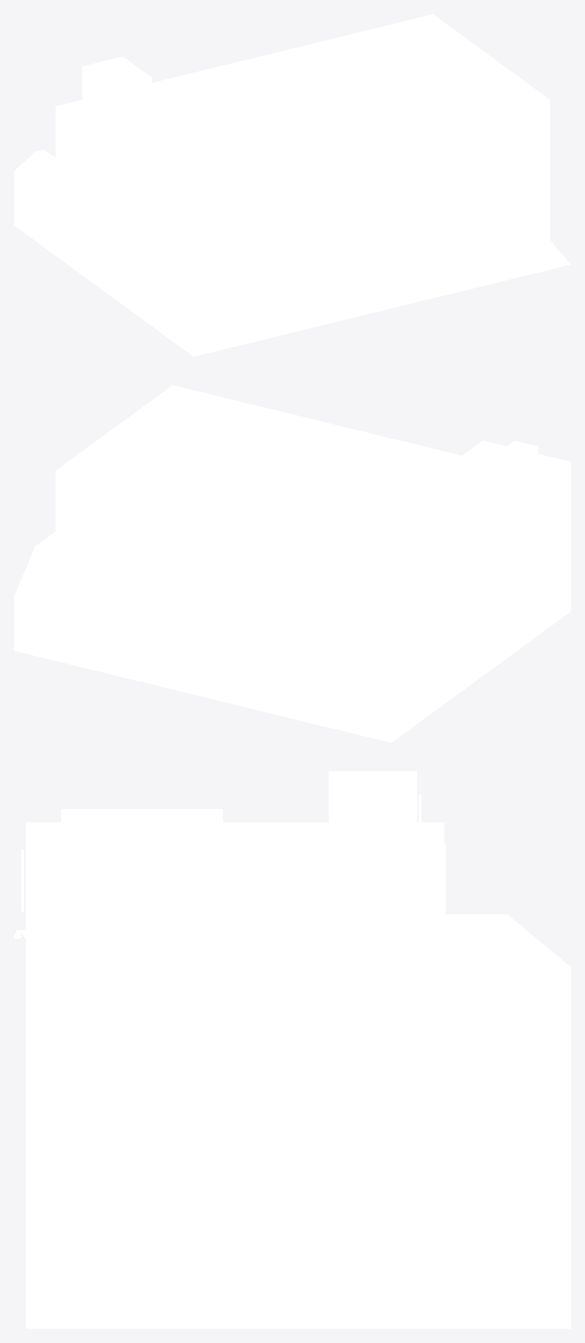
The model's file is landfill-big.glb.
3 views of the same model, one above another, from view 1: azimuth 30°, elevation 25°; view 2: azimuth 150°, elevation 25°; view 3: azimuth 270°, elevation 25° (orthographic). The views are drawn at different scales.
Visible parts, largest first — view 1: landfill-big; view 2: landfill-big; view 3: landfill-big.
Part boxes in pixels (bbox=[...]): landfill-big: bbox=[14, 14, 570, 356]; landfill-big: bbox=[14, 385, 570, 742]; landfill-big: bbox=[14, 771, 570, 1328].
Bounding box in the file's own units: 21.04 × 10.13 × 17.57.
1 material, 1 textured.
